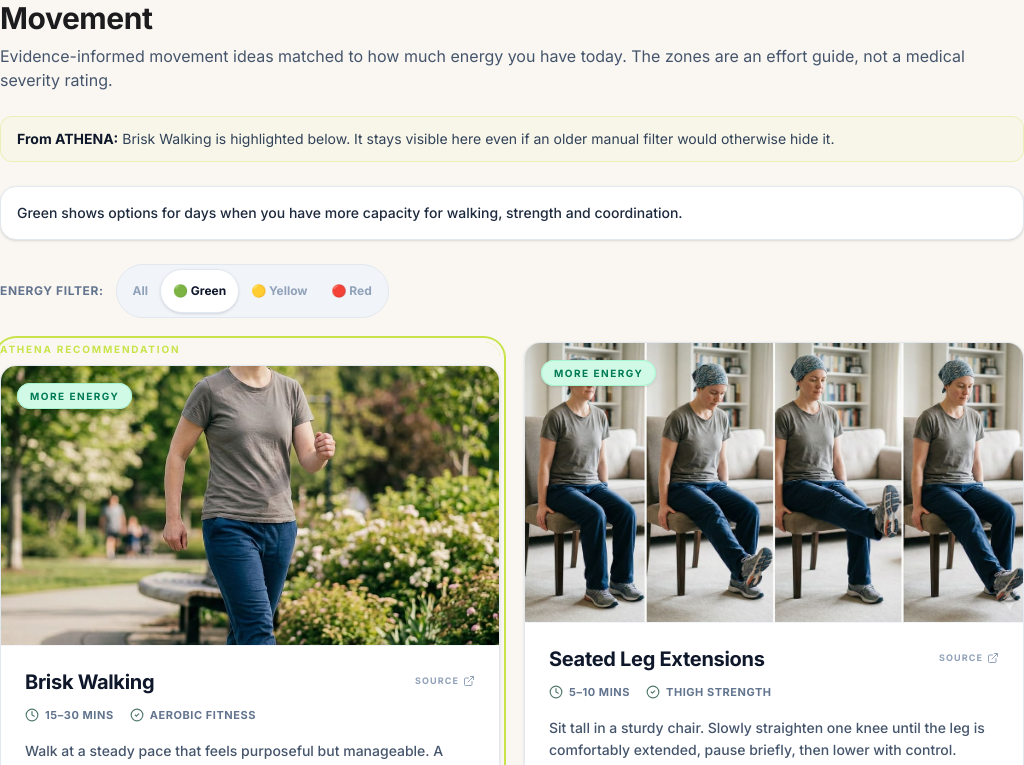
Test: Movement and Nutrition page entry scroll › does not snap Movement to top when a filter locally clears the ATHENA target
The width and height of the screenshot is (1024, 765).
Click the radio button labelled "🟡 Yellow": [279, 291] box [239,269,320,313]
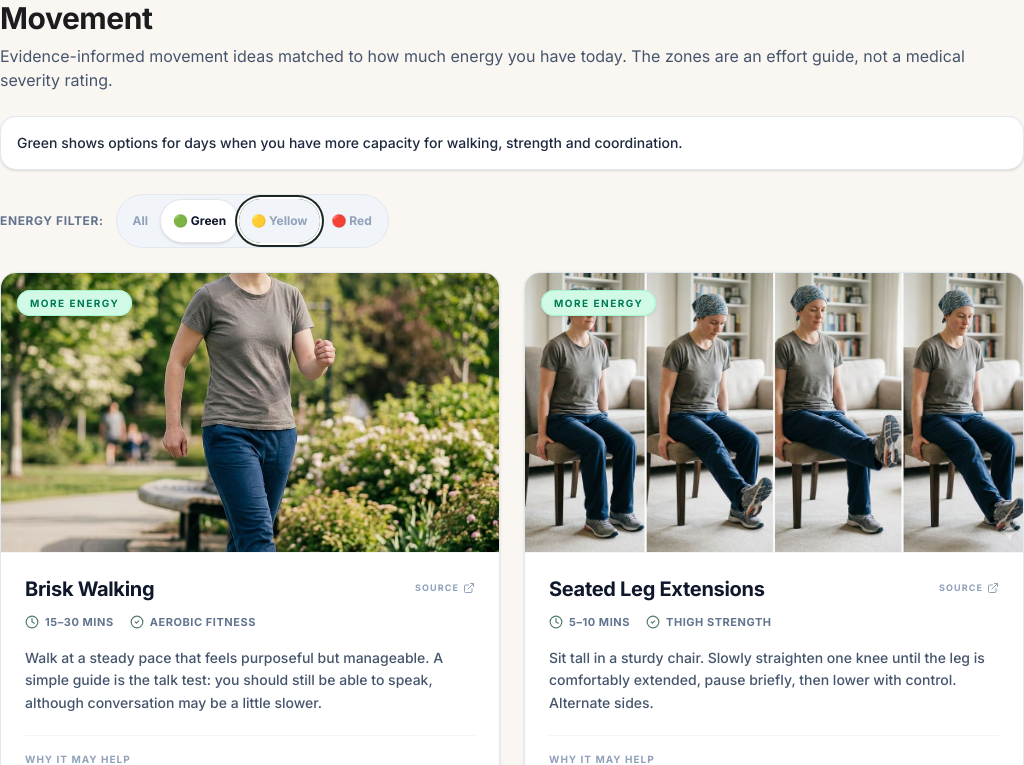
Check: the text "From ATHENA:" is gone
